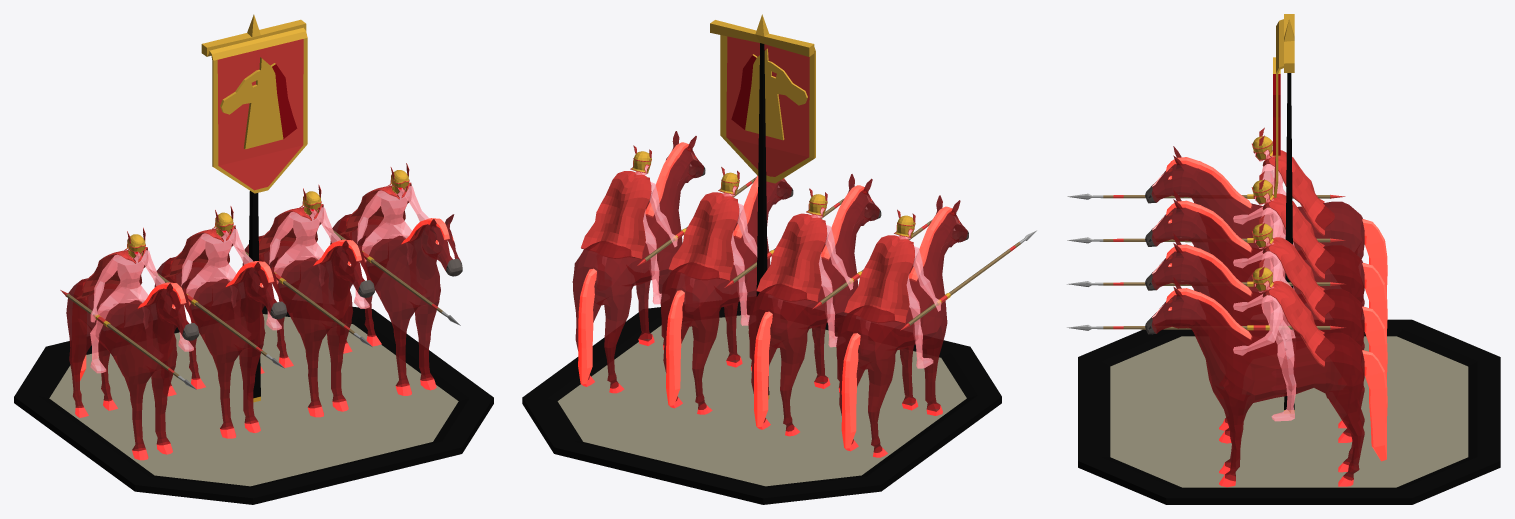
Rendered from red cavalry unit merged.fbx.
3 renders of one model, left to right at view 1: azimuth 30°, elevation 25°; view 2: azimuth 150°, elevation 25°; view 3: azimuth 270°, elevation 25°, orthographic.
Visible parts, largest first — view 1: Cube; view 2: Cube; view 3: Cube.
Part boxes in pixels (x1=…): Cube: x1=14, y1=14, x2=493, y2=504; Cube: x1=522, y1=14, x2=1036, y2=504; Cube: x1=1067, y1=14, x2=1500, y2=504.
Bounding box in the file's own units: 500 × 520 × 514.
